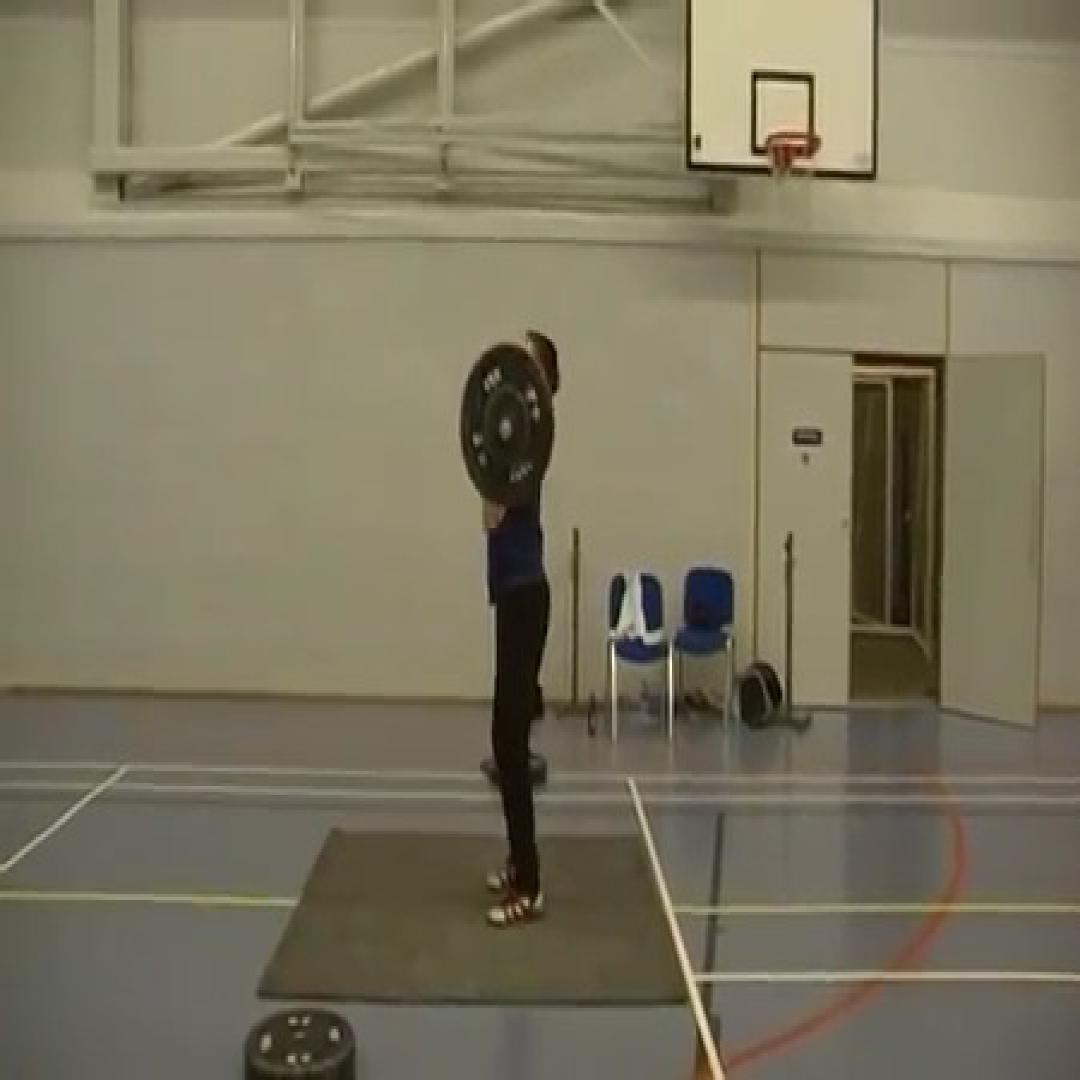Bar: (497, 414, 514, 444)
Barbell: (458, 342, 554, 507)
